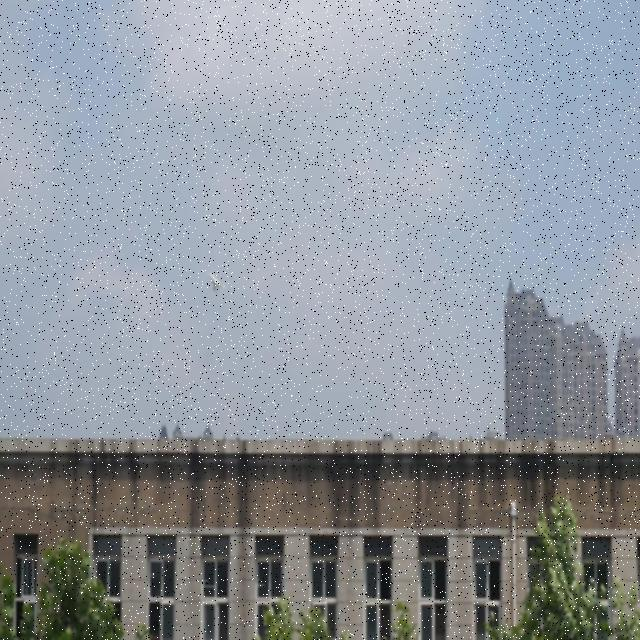UAV: (208, 272, 226, 295)
